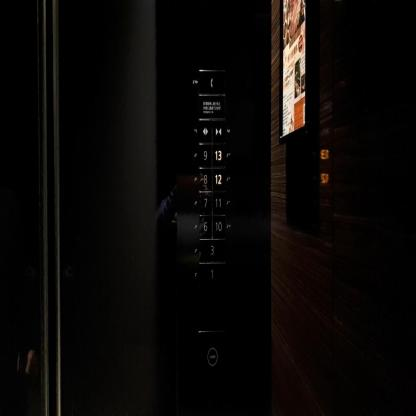1: (197, 259, 227, 286)
10: (211, 212, 226, 241)
11: (212, 188, 226, 217)
12: (211, 166, 226, 193)
13: (211, 141, 226, 169)
3: (197, 237, 227, 264)
6: (197, 213, 213, 241)
7: (197, 190, 213, 216)
8: (197, 166, 213, 193)
9: (197, 142, 212, 169)
call: (197, 68, 226, 97)
close: (212, 117, 226, 144)
open: (197, 116, 213, 144)
